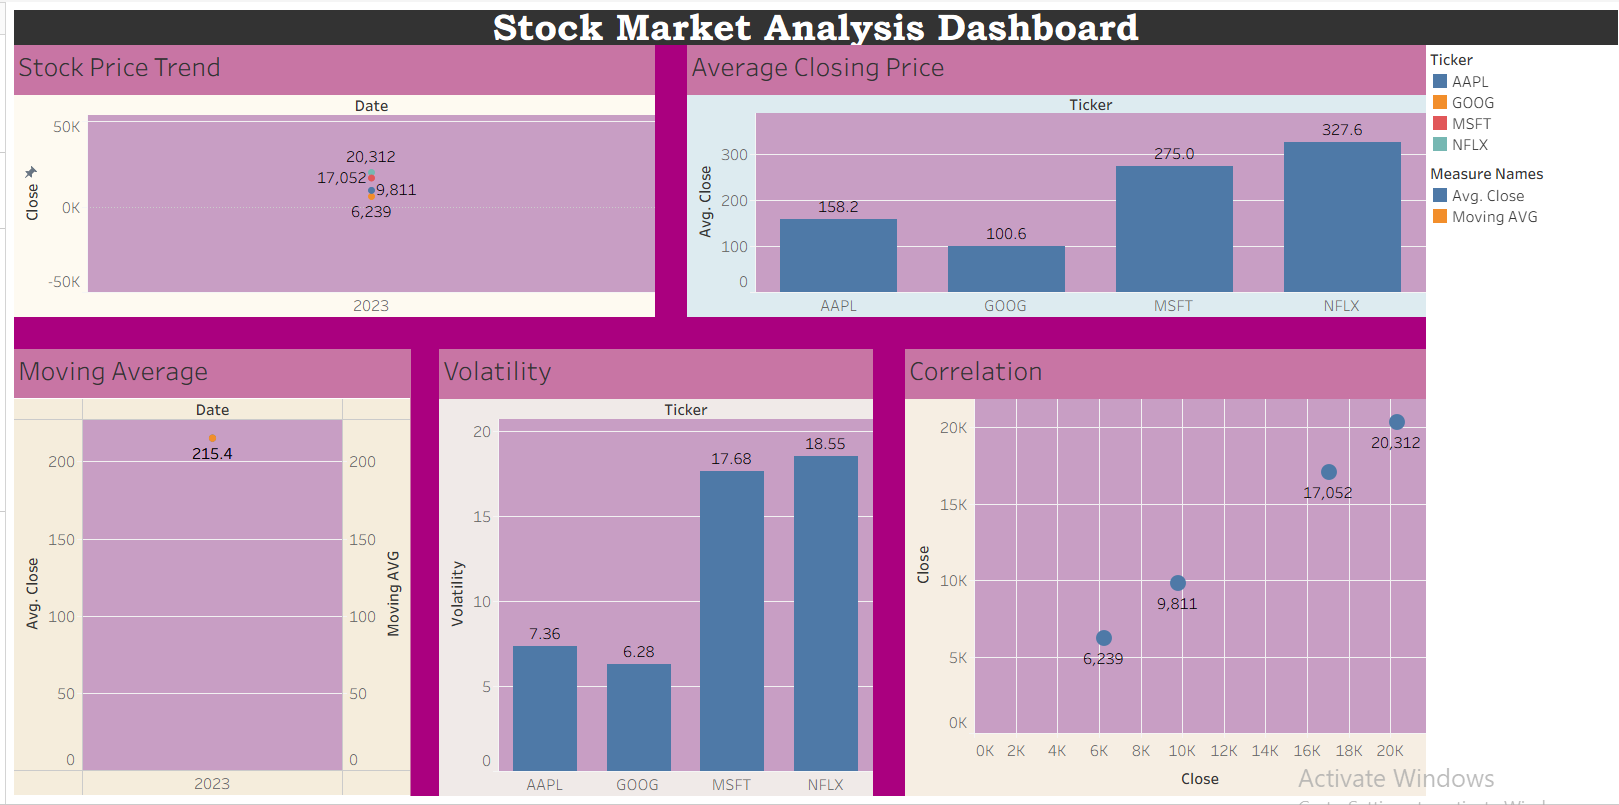

The dashboard page shown, as its layout file describes it:
{"tool":"tableau","page":{"name":"Stock Market Analysis Dashboard","canvas":[1000,1000],"units":"permille","ordinal":0},"visuals":[{"type":"text","box":[4.9,10,990.1,43.6]},{"type":"worksheet","title":"Stock Price Trend","mark":"Line","rows":["Close"],"cols":["Date"],"box":[4.9,53.6,395.7,339.2]},{"type":"blank","box":[400.6,53.6,19.6,339.2]},{"type":"worksheet","title":"Average Closing Price","mark":"Bar","rows":["Close"],"cols":["Ticker"],"box":[420.2,53.6,456.4,339.2]},{"type":"legend","title":"Stock Price Trend","param":"[federated.1c9dsf817ogbt41cawmx60xfhqkf].[none:Ticker:nk]","box":[876.5,53.6,118.5,142.2]},{"type":"legend","title":"Moving Average","param":"[federated.1c9dsf817ogbt41cawmx60xfhqkf].[:Measure Names]","box":[876.5,195.8,118.5,89.8]},{"type":"blank","box":[4.9,392.8,871.6,39.9]},{"type":"worksheet","title":"Moving Average","mark":"Automatic","rows":["Close","Calculation_0321649794162688"],"cols":["Date"],"box":[4.9,432.7,245.1,557.4]},{"type":"blank","box":[250,432.7,17.3,557.4]},{"type":"worksheet","title":"Volatility","mark":"Bar","rows":["Calculation_0321649796939777"],"cols":["Ticker"],"box":[267.3,432.7,267.9,557.4]},{"type":"blank","box":[535.2,432.7,19.8,557.4]},{"type":"worksheet","title":"Correlation","mark":"Circle","rows":["Close"],"cols":["Close"],"box":[554.9,432.7,321.6,557.4]}]}

Visuals, with their boxes on the dashboard's canvas, which has no fixed pixel size, in thousandths of its width and height (x1, y1, x2, y2). These are canvas units, not pixel positions in the 1619x805 screenshot, which may show the page scaled, cropped or inside an application window:
text: pyautogui.locateOnScreen(5, 10, 995, 54)
"Stock Price Trend" worksheet (Line marks): pyautogui.locateOnScreen(5, 54, 401, 393)
blank: pyautogui.locateOnScreen(401, 54, 420, 393)
"Average Closing Price" worksheet (Bar marks): pyautogui.locateOnScreen(420, 54, 877, 393)
"Stock Price Trend" legend: pyautogui.locateOnScreen(876, 54, 995, 196)
"Moving Average" legend: pyautogui.locateOnScreen(876, 196, 995, 286)
blank: pyautogui.locateOnScreen(5, 393, 876, 433)
"Moving Average" worksheet: pyautogui.locateOnScreen(5, 433, 250, 990)
blank: pyautogui.locateOnScreen(250, 433, 267, 990)
"Volatility" worksheet (Bar marks): pyautogui.locateOnScreen(267, 433, 535, 990)
blank: pyautogui.locateOnScreen(535, 433, 555, 990)
"Correlation" worksheet (Circle marks): pyautogui.locateOnScreen(555, 433, 876, 990)
